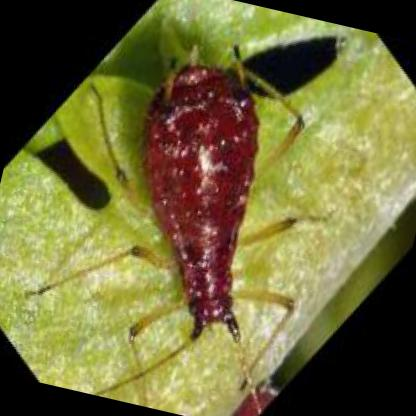uroleucon compositae: (119, 39, 307, 350)
